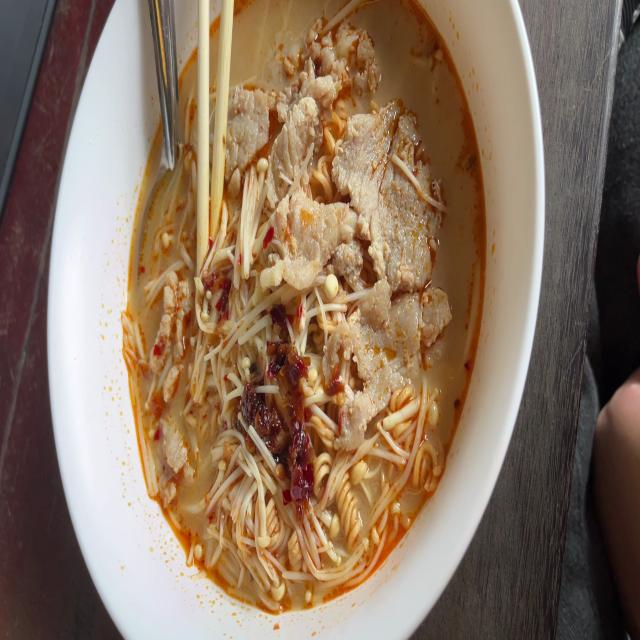noodle: (118, 0, 500, 623)
